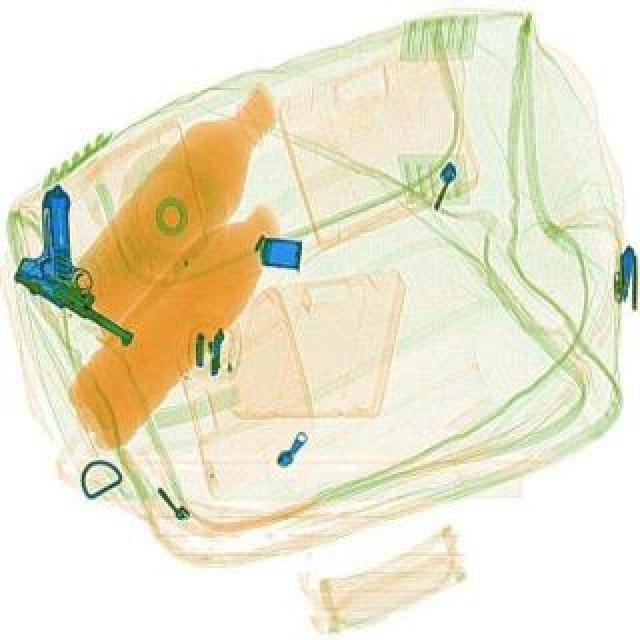gun: (8, 194, 184, 346)
